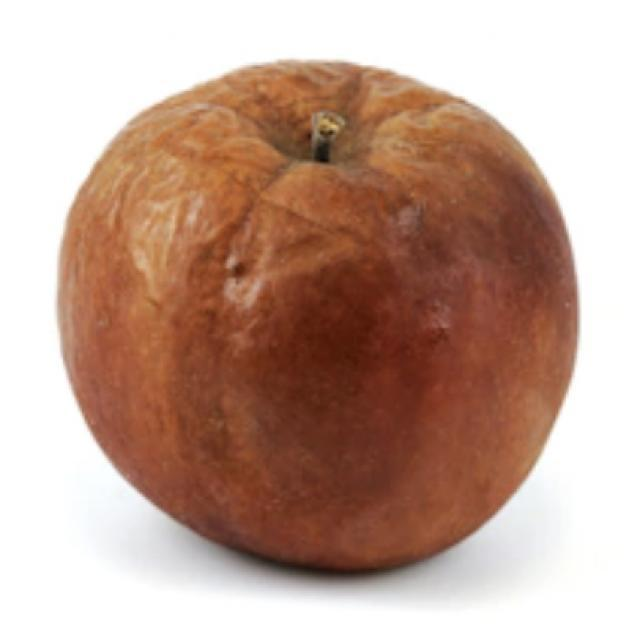Rotten: (45, 87, 590, 565)
